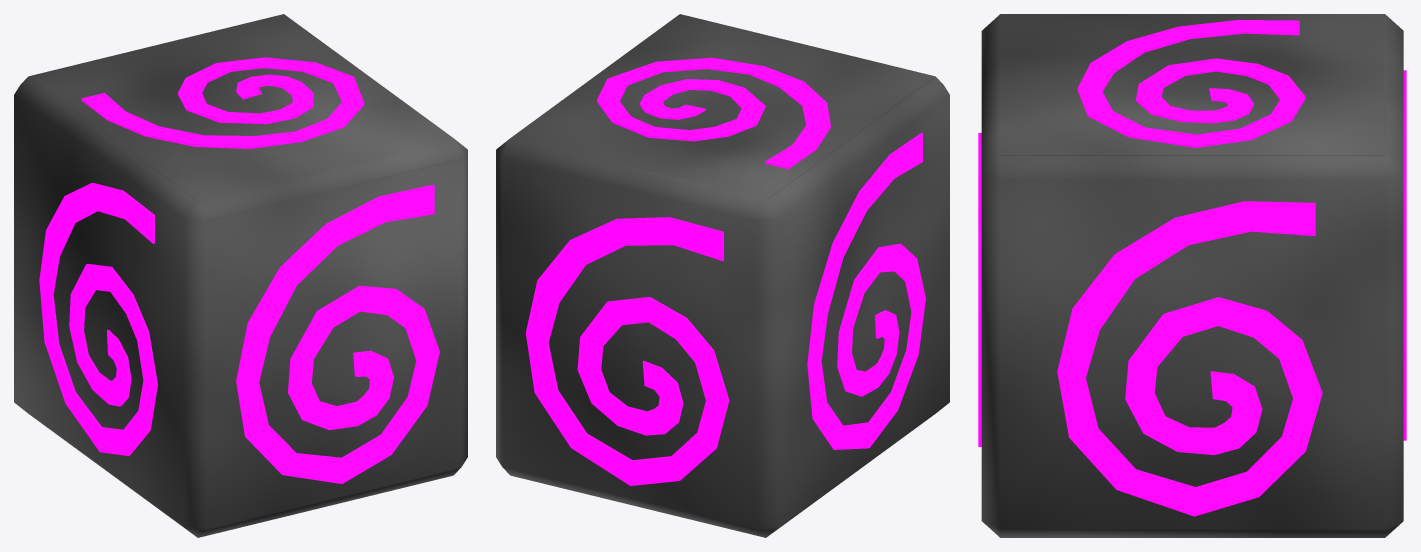
The model's file is AirKey.fbx.
3 renders of one model, left to right at view 1: azimuth 30°, elevation 25°; view 2: azimuth 150°, elevation 25°; view 3: azimuth 270°, elevation 25°, orthographic. The views are drawn at different scales.
Parts seen in each view (by area): view 1: Chiave aria.001; view 2: Chiave aria.001; view 3: Chiave aria.001.
Boxes of the visible parts, x1,y1,x2,y2 form: Chiave aria.001: (14,14,467,537); Chiave aria.001: (496,14,949,537); Chiave aria.001: (978,14,1406,537).
Bounding box in the file's own units: 0.3698 × 0.4185 × 0.4202.
